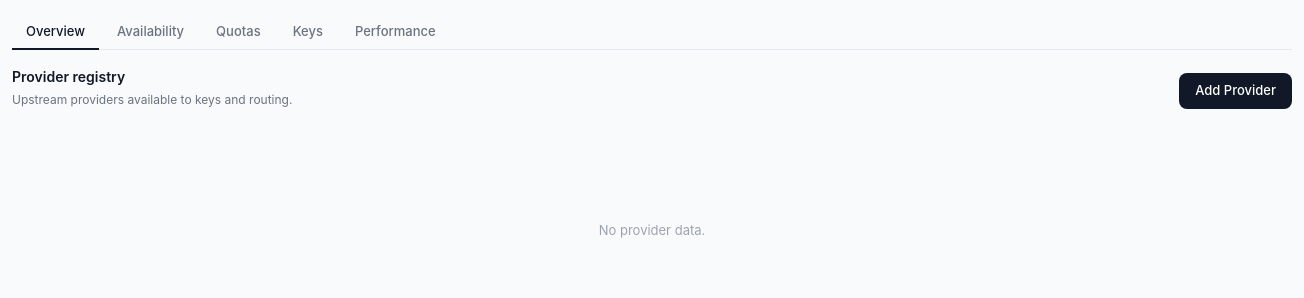
Test: ProvidersTab quotas › explains an empty quota response and links to framework setup documentation
Click the tab "Quotas" at [238, 33], box x1=202 y1=16 x2=275 y2=50
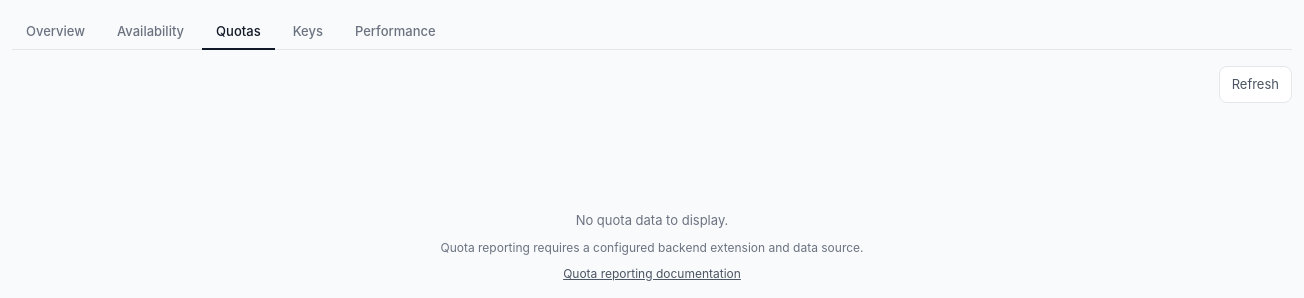
Now the text "No quota data to display." is shown, box x1=576 y1=212 x2=728 y2=228
Now the text "Quota reporting requires a configured backend extension and data source." is shown, box x1=440 y1=240 x2=864 y2=254
Now the text "No provider data." is gone
